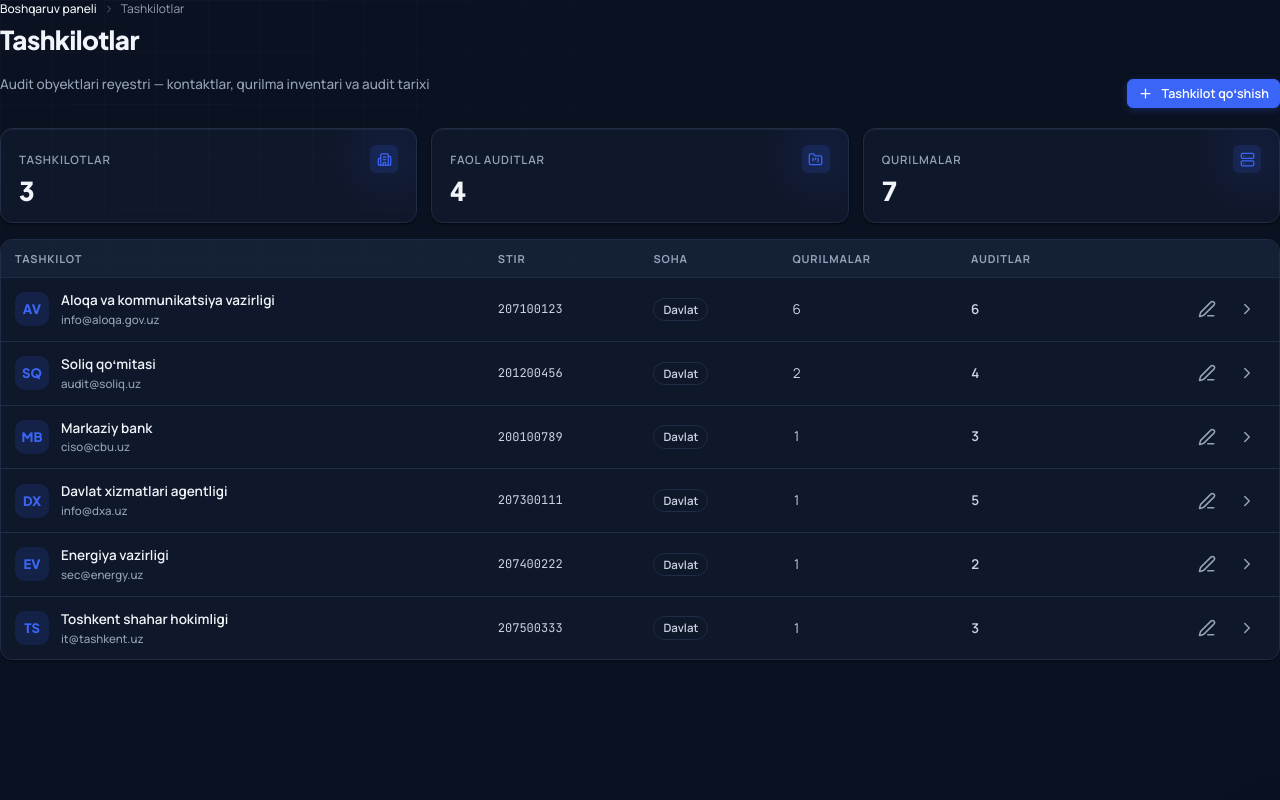
Test case: OrgsScreen › opens edit dialog with the selected organization
This screenshot has width=1280, height=800.
What coordinates should you click on to do the following:
click the button named "Aloqa va kommunikatsiya vazirligi tashkilotini tahrirlash"
I would click on:
 (1207, 309)
Its box is [1189,291,1225,327].
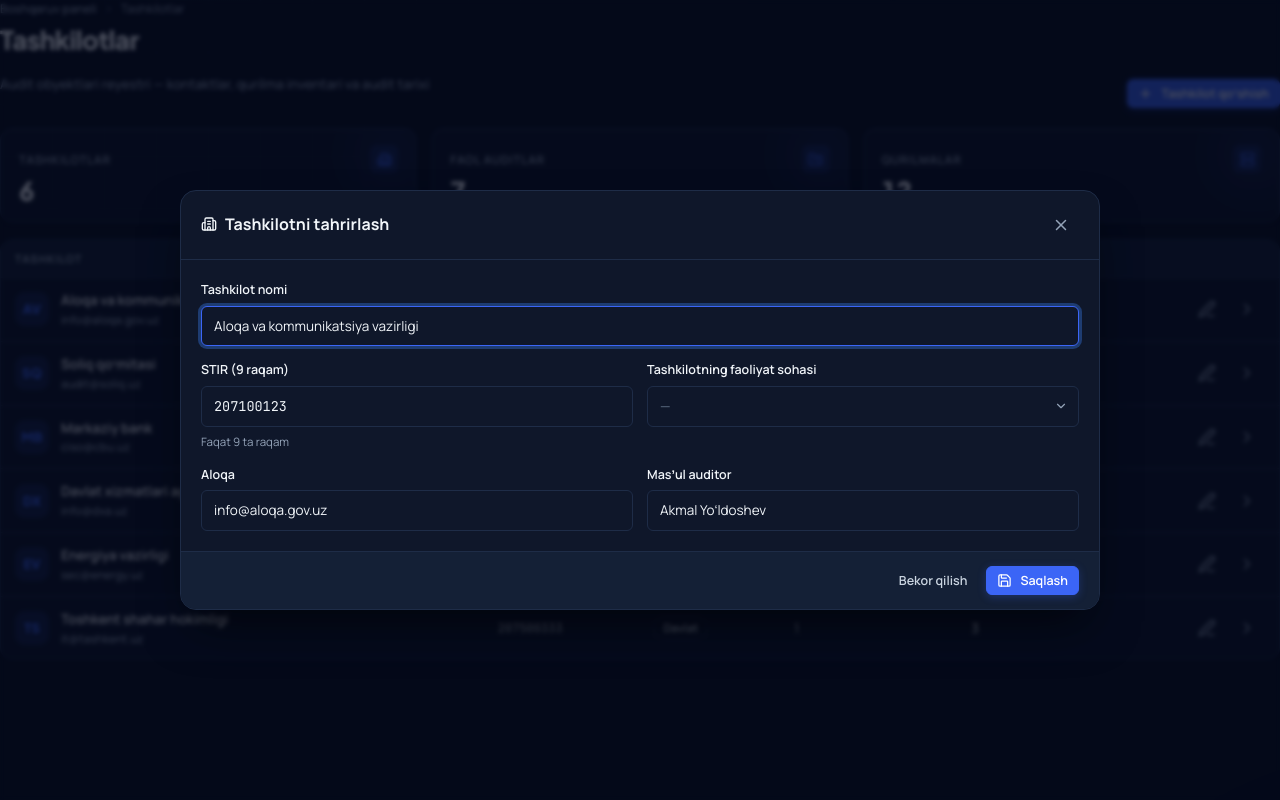
Check: the dialog is shown, box [180,190,1100,610]
Check: the field labelled "Tashkilot nomi" holds "Aloqa va kommunikatsiya vazirligi", box [201,306,1079,346]
